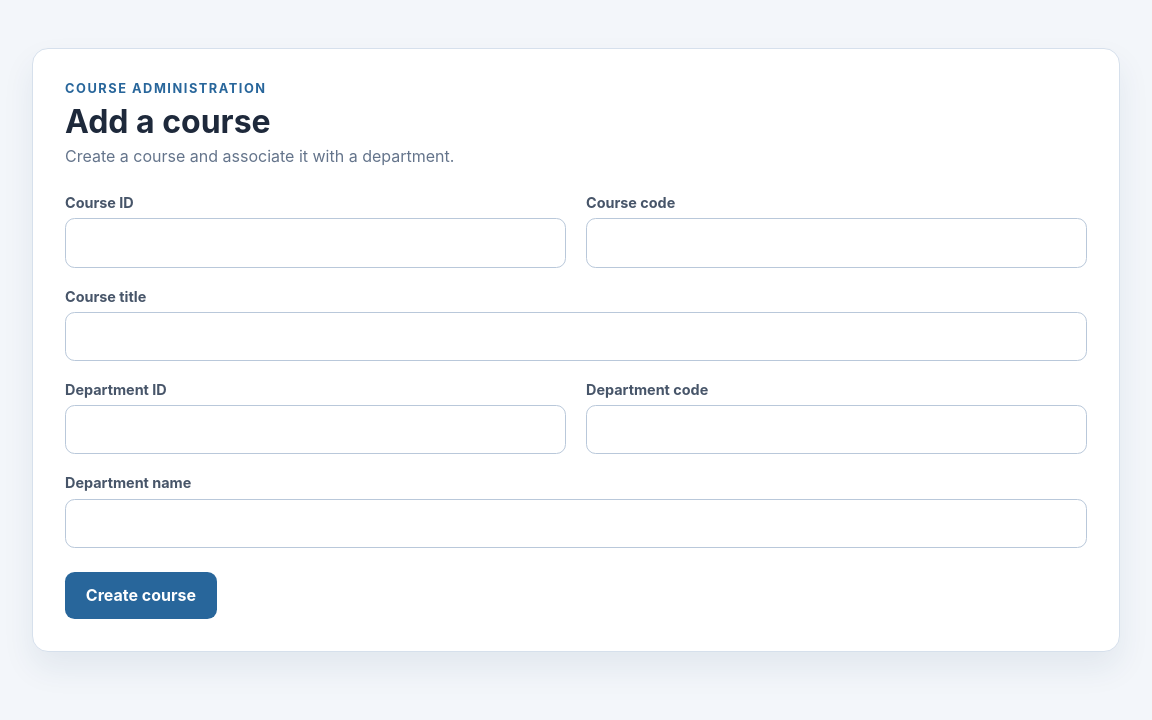
CourseForm › displays validation errors returned by the backend
Step 1. Type "9011" into the number field labelled "Course ID" → (316, 243), box [65,218,566,268]
Step 2. Type "TEST101" into the field labelled "Course code" → (836, 243), box [586,218,1087,268]
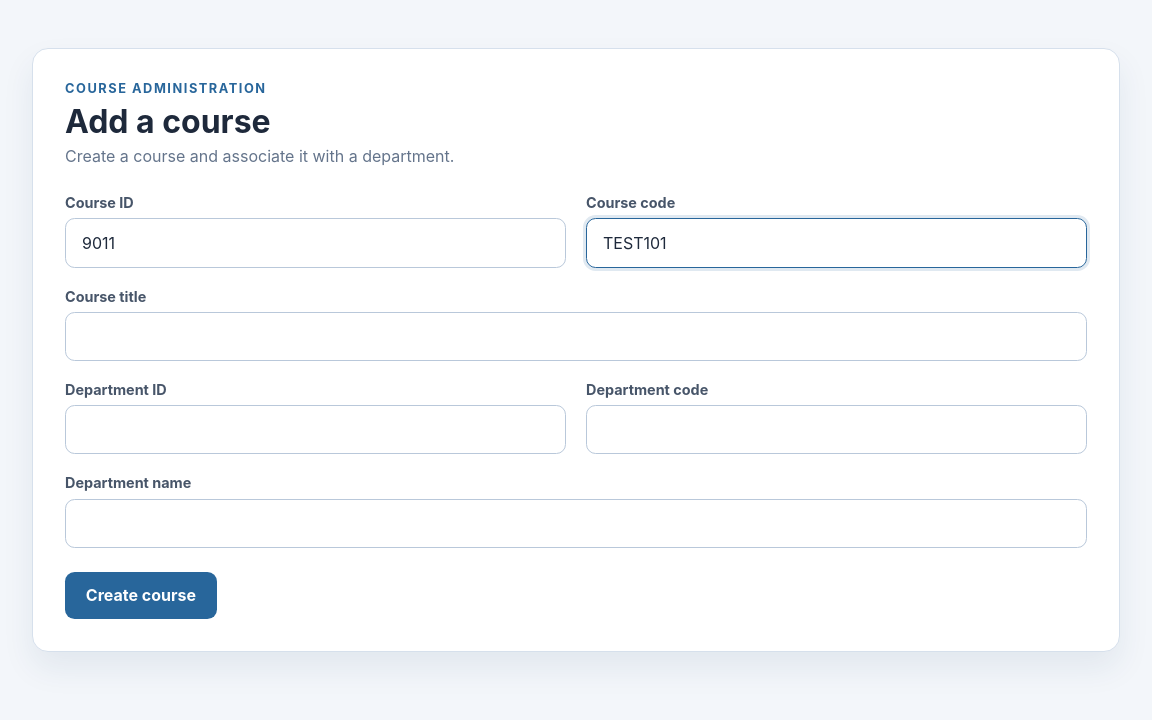
Step 3. Type "Frontend Testing" into the field labelled "Course title" → (576, 336), box [65,312,1087,361]
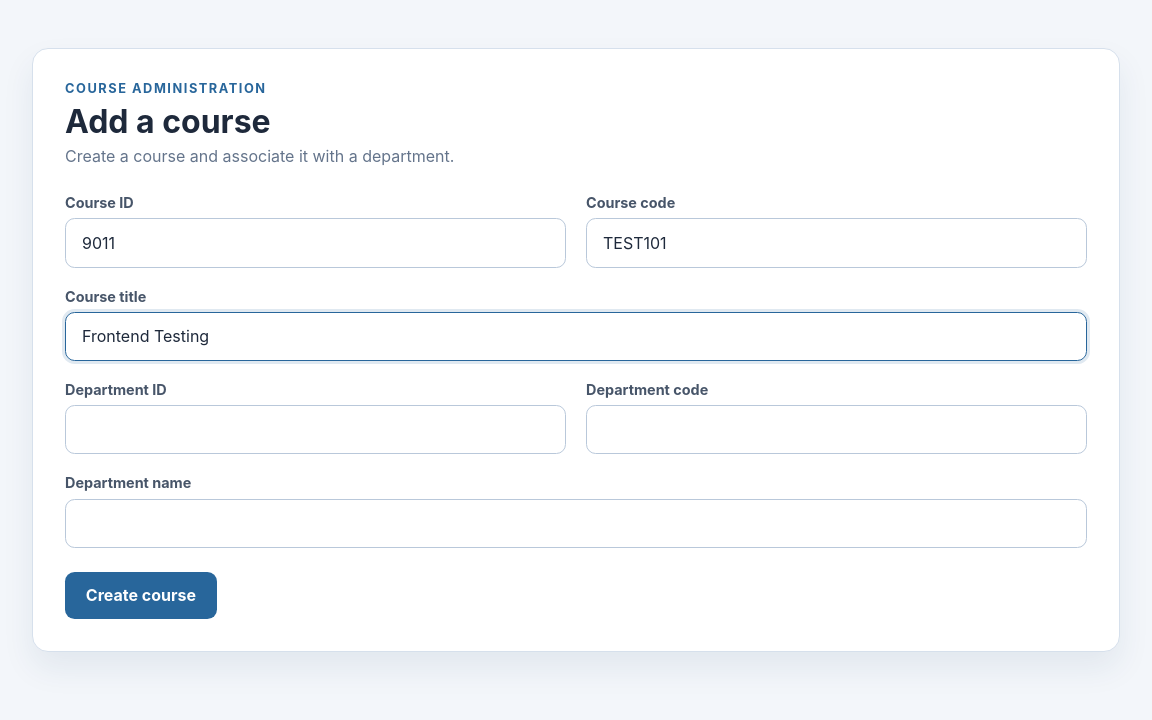
Step 4. Type "900" into the number field labelled "Department ID" → (316, 430), box [65,405,566,454]
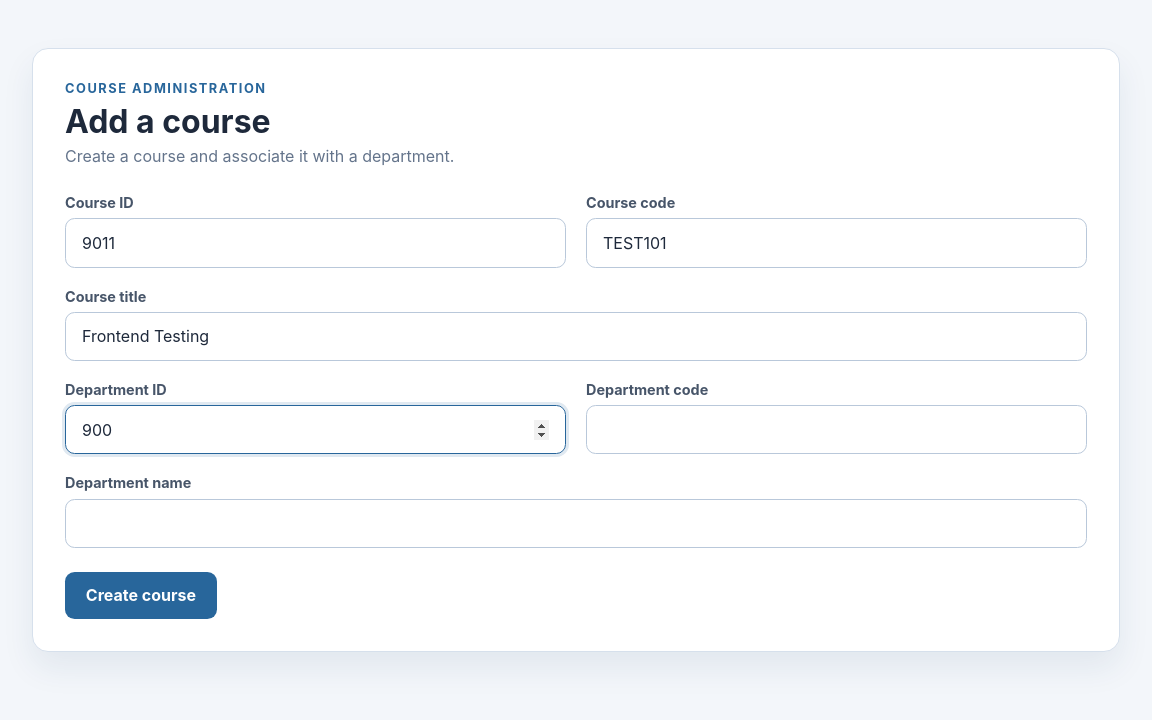
Step 5. Type "MCA" into the field labelled "Department code" → (836, 430), box [586,405,1087,454]
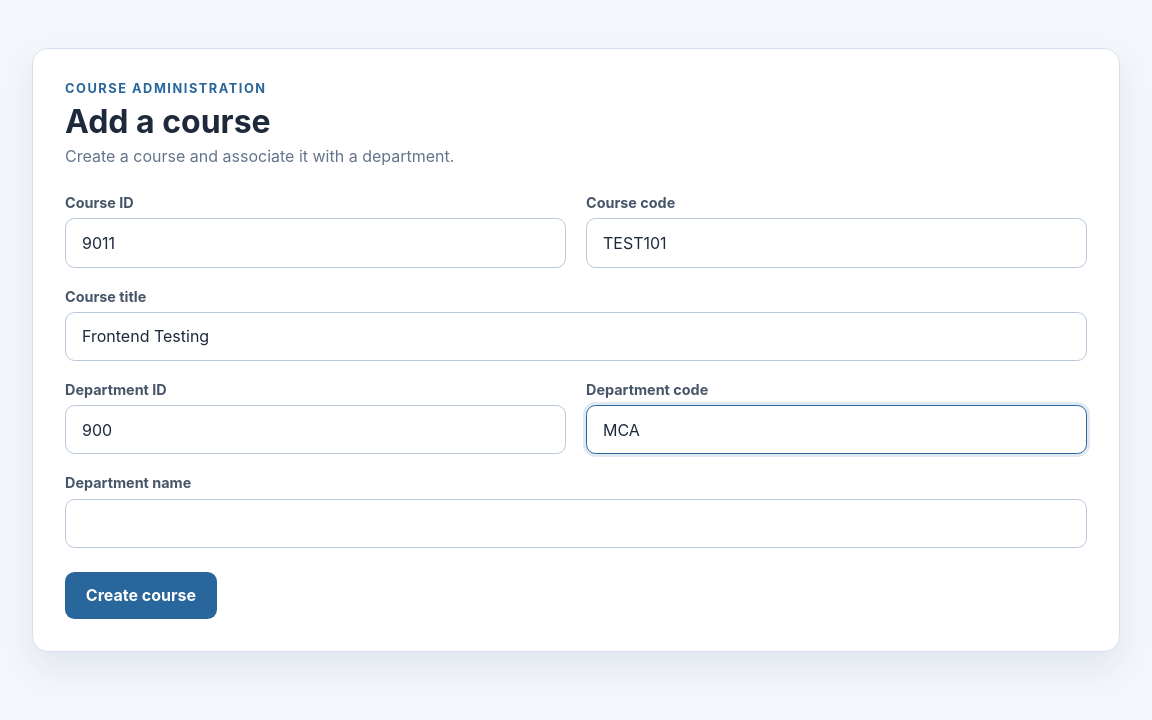
Step 6. Type "Computer Applications" into the field labelled "Department name" → (576, 523), box [65,498,1087,548]
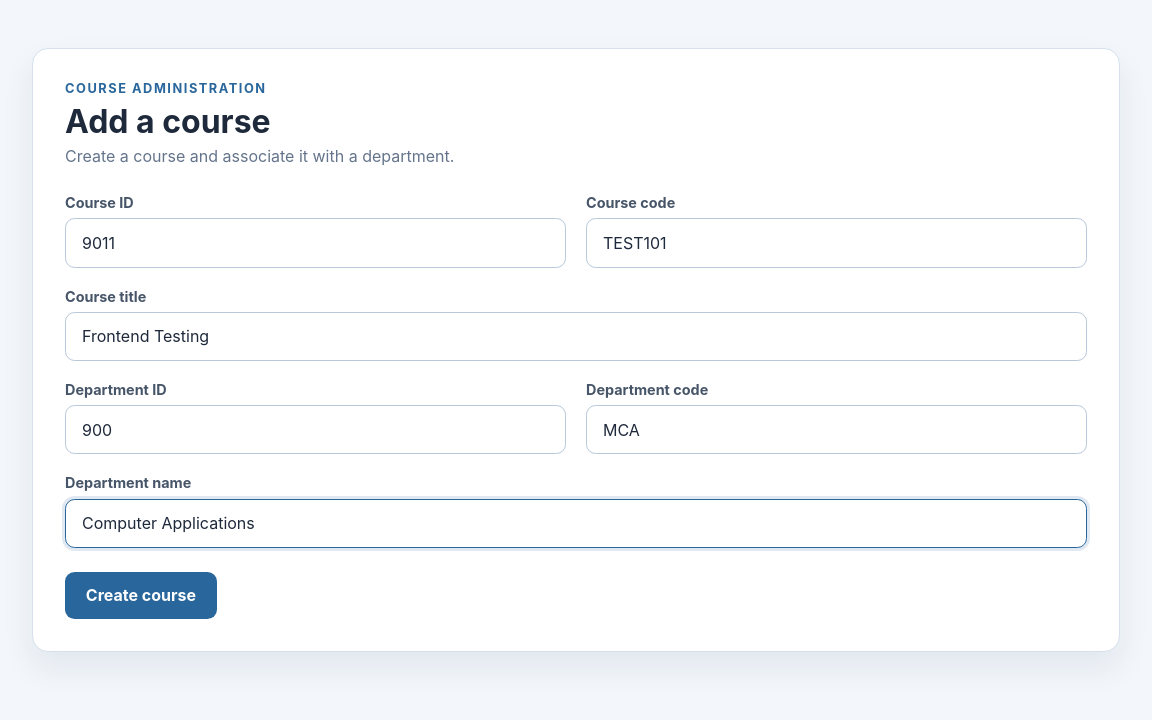
Step 7. Click the button "Create course" → (141, 595), box [65,572,217,619]
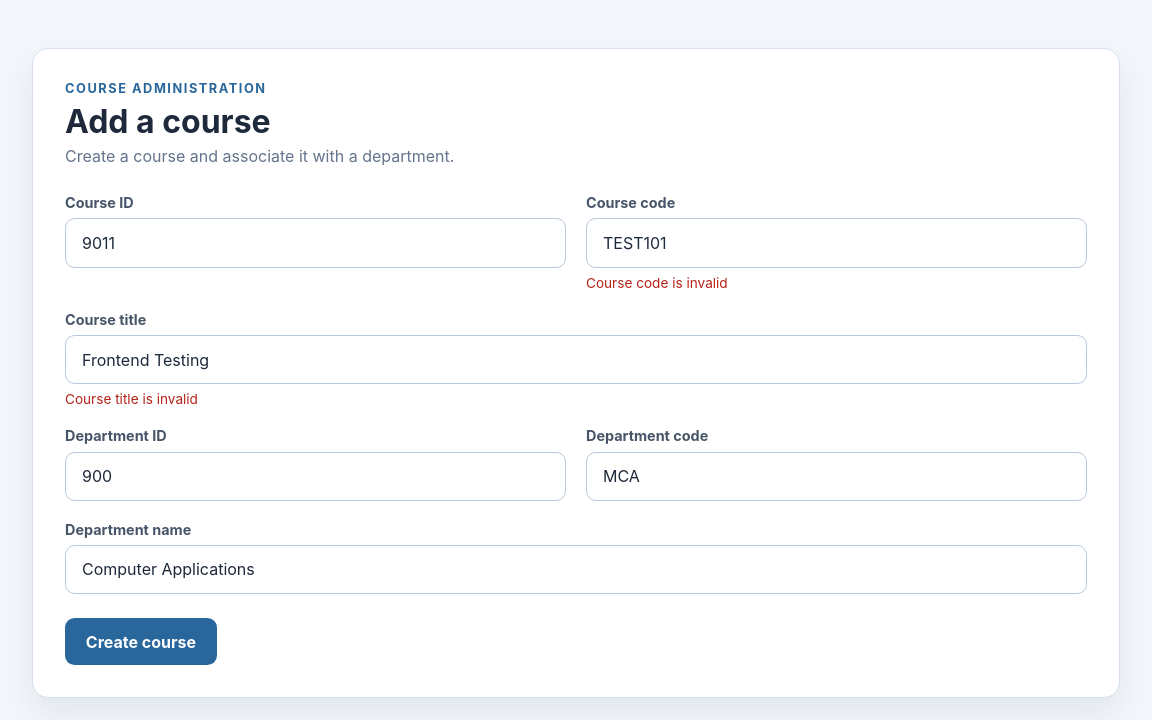
Now the text "Course code is invalid" is shown, box [586,275,728,291]
Now the text "Course title is invalid" is shown, box [65,391,198,407]
